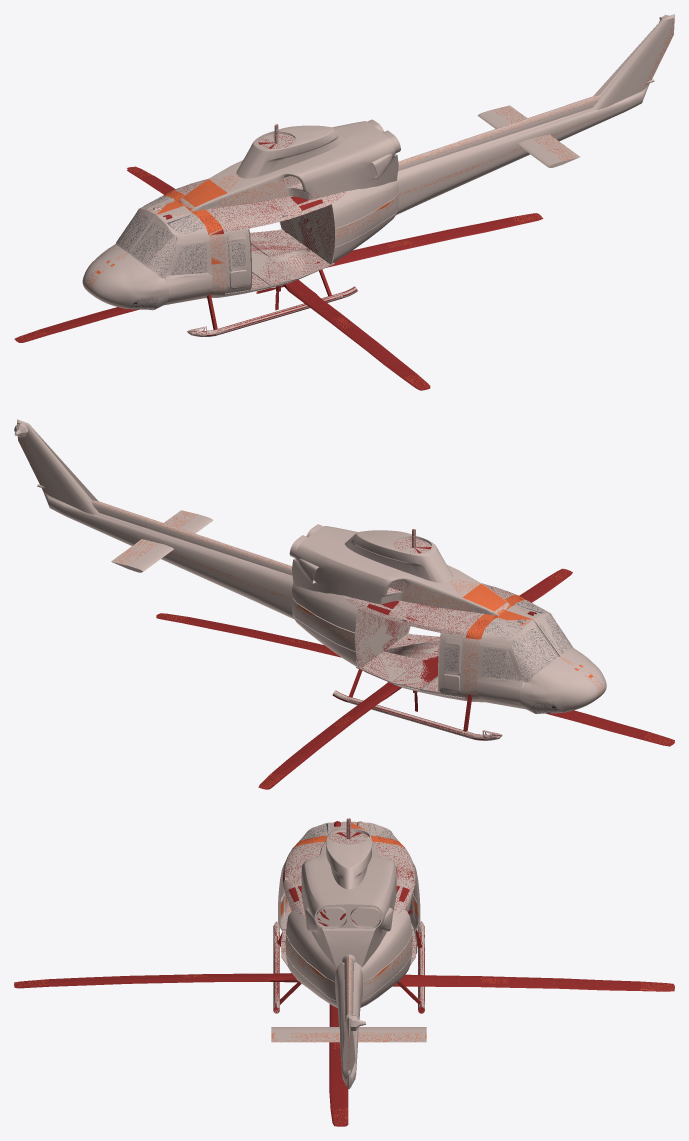
File: Copter 2.fbx
3 renders of one model, top to bottom at view 1: azimuth 30°, elevation 25°; view 2: azimuth 150°, elevation 25°; view 3: azimuth 270°, elevation 25°, orthographic. The views are drawn at different scales.
Parts seen in each view (by area): view 1: body, RotorMain; view 2: body, RotorMain; view 3: body, RotorMain.
Part boxes in pixels (left/top/right/bottom): body: left=82, top=14, right=674, bottom=336; RotorMain: left=14, top=166, right=543, bottom=390; body: left=14, top=419, right=606, bottom=740; RotorMain: left=156, top=568, right=674, bottom=789; body: left=271, top=818, right=426, bottom=1088; RotorMain: left=14, top=973, right=674, bottom=1126.
Size of the model in its own units: 200 by 57.2 by 158.
